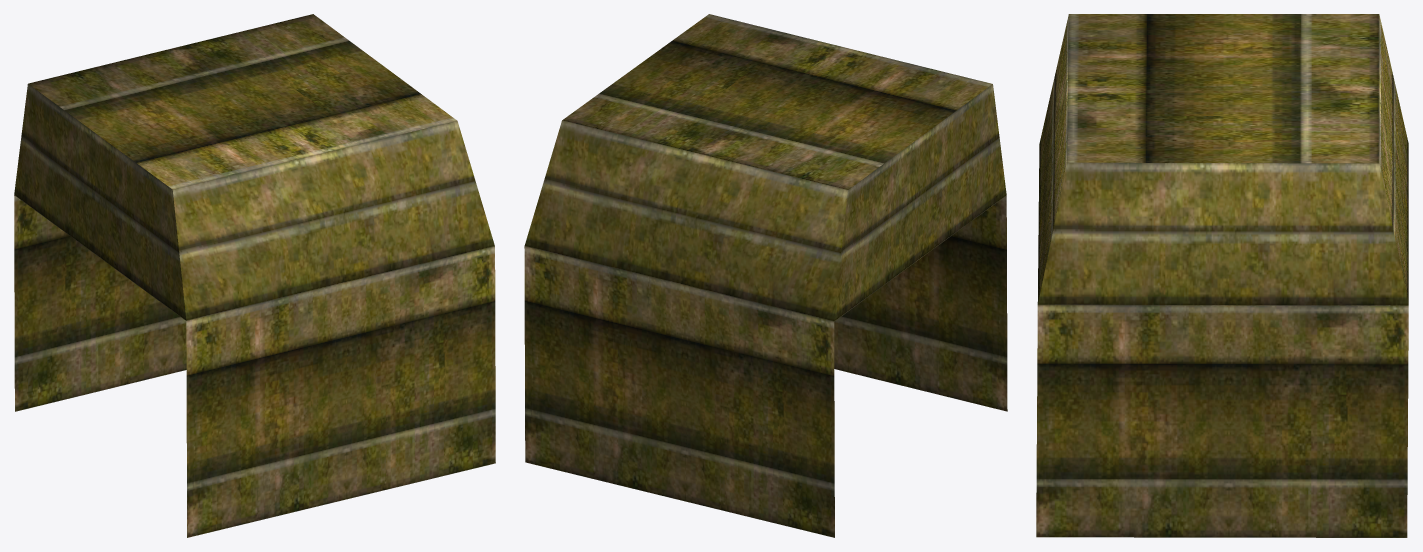
Rendered from OVERHILL_A_01_OBJECT300.fbx.
3 views of the same model, side by side, from view 1: azimuth 30°, elevation 25°; view 2: azimuth 150°, elevation 25°; view 3: azimuth 270°, elevation 25° (orthographic). The views are drawn at different scales.
Parts seen in each view (by area): view 1: OVERHILL_A_01_OBJECT300; view 2: OVERHILL_A_01_OBJECT300; view 3: OVERHILL_A_01_OBJECT300.
Part boxes in pixels (x1,y1,x2,y2): OVERHILL_A_01_OBJECT300: [14, 14, 495, 537]; OVERHILL_A_01_OBJECT300: [524, 14, 1007, 537]; OVERHILL_A_01_OBJECT300: [1036, 14, 1408, 537].
Size of the model in its own units: 11843 by 12361 by 11525.
Materials: 2 (2 with a texture image).
